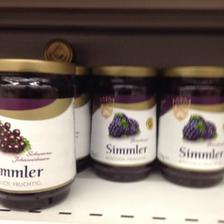Marmelade: (1, 57, 76, 210), (157, 64, 223, 188), (88, 66, 158, 182)
